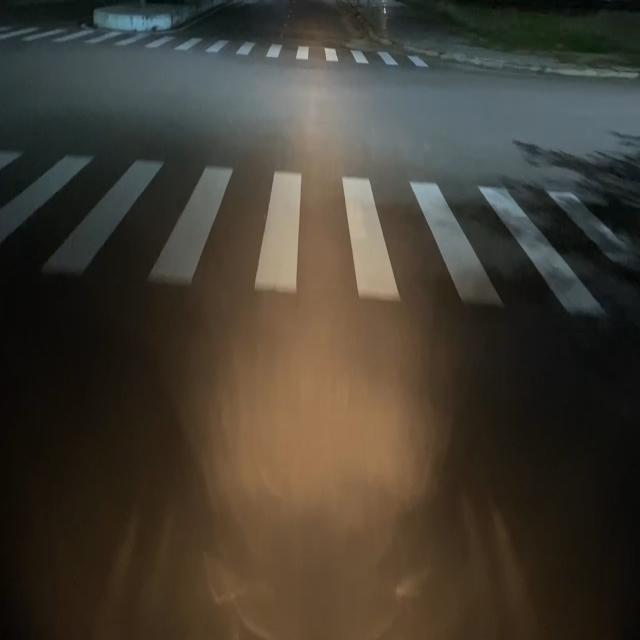walk-crossing: (0, 146, 640, 316), (4, 18, 436, 76)
